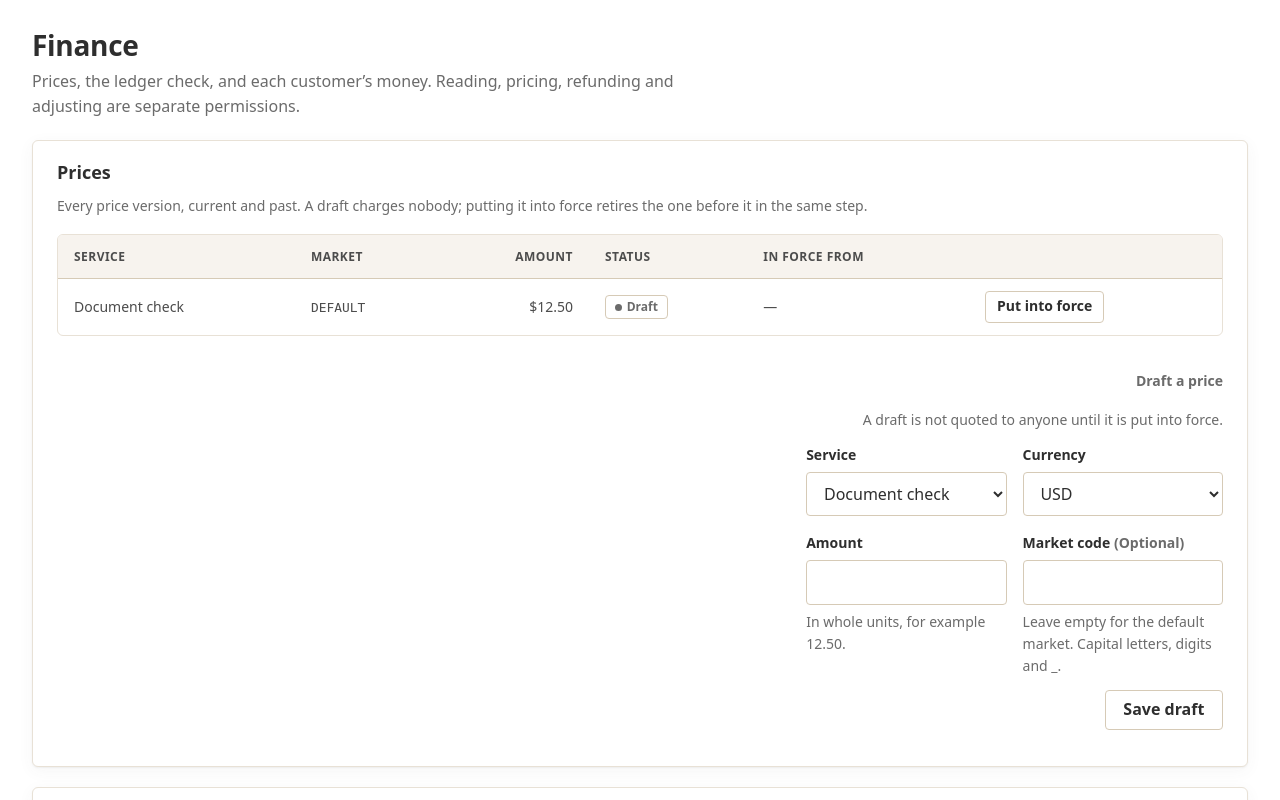
it: finance › puts a draft price into force after confirmation
The width and height of the screenshot is (1280, 800).
Click the button "Put into force" at x=1045, y=307, box 985,291 -> 1104,323
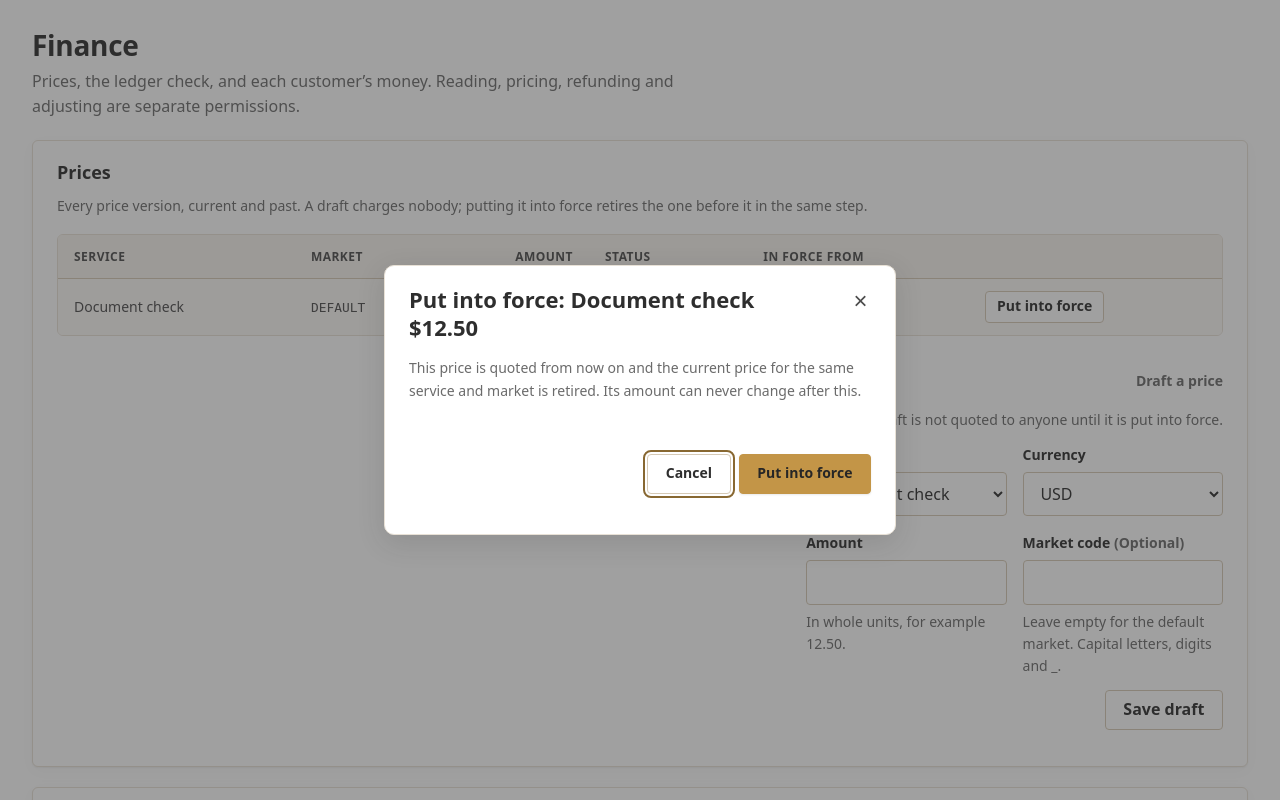
Click the button "Put into force" below "Put into force: Document check $12.50" at x=805, y=474, box 739,454 -> 871,494
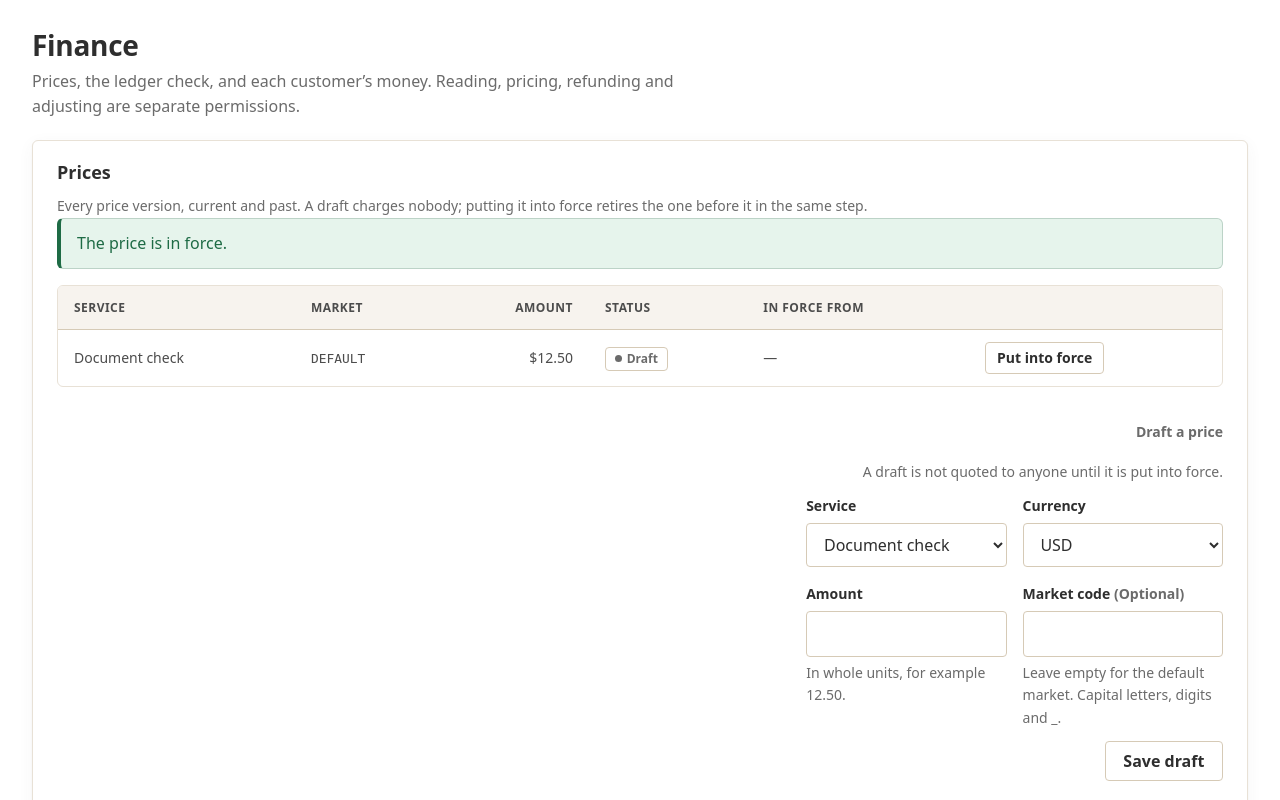
Now the text "The price is in force." is shown, box 57,218 -> 1223,269
